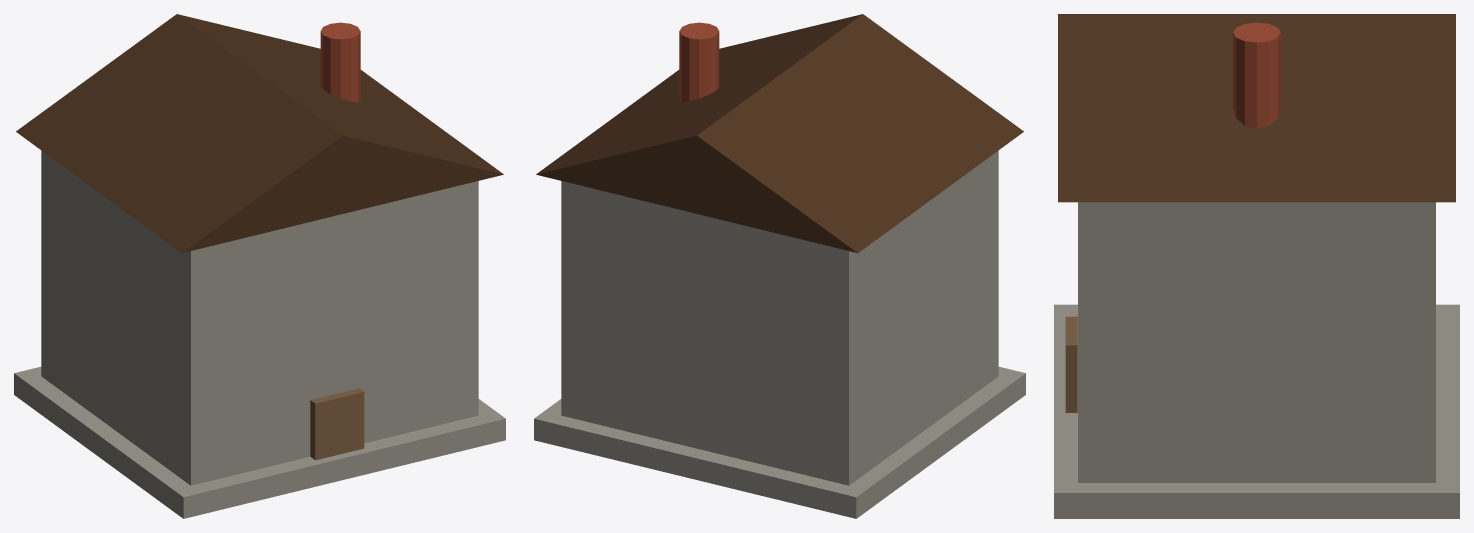
Rendered from bld_residential_a03_lod1.glb.
3 renders of one model, left to right at view 1: azimuth 30°, elevation 25°; view 2: azimuth 150°, elevation 25°; view 3: azimuth 270°, elevation 25°, orthographic. The views are drawn at different scales.
Parts seen in each view (by area): view 1: body; view 2: body; view 3: body.
Part boxes in pixels (box(x1,y1,x2,y2)): body: box(14, 14, 505, 518); body: box(534, 14, 1025, 518); body: box(1054, 14, 1459, 518).
Size of the model in its own units: 5.6 by 6.09 by 5.1.
